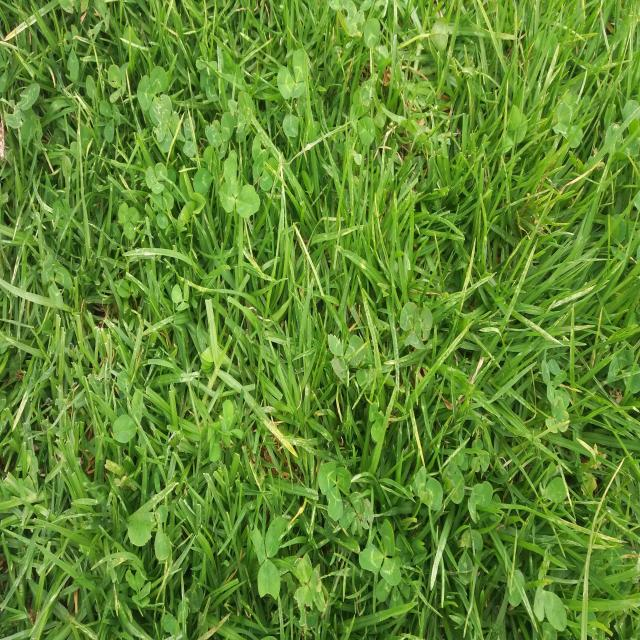Four Leaf Clover: (251, 131, 278, 191), (339, 492, 374, 537), (155, 94, 180, 153)
